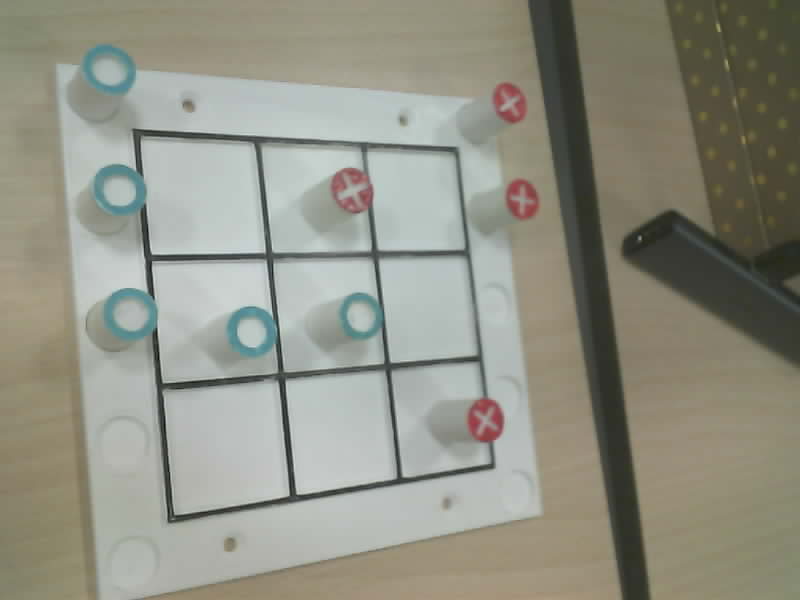blue circle: (103, 288, 157, 340), (81, 44, 135, 95), (92, 164, 146, 215), (227, 306, 276, 356), (339, 292, 383, 339)
board: (57, 65, 540, 599)
cells: (164, 381, 288, 515), (154, 259, 276, 382), (141, 137, 264, 254), (286, 370, 395, 493), (275, 258, 383, 371), (261, 144, 370, 252), (392, 361, 490, 476), (380, 256, 477, 361), (367, 149, 464, 250)
grid: (133, 129, 494, 521)
red cross: (331, 167, 372, 213), (467, 397, 503, 442), (493, 82, 526, 122), (506, 179, 538, 219)
